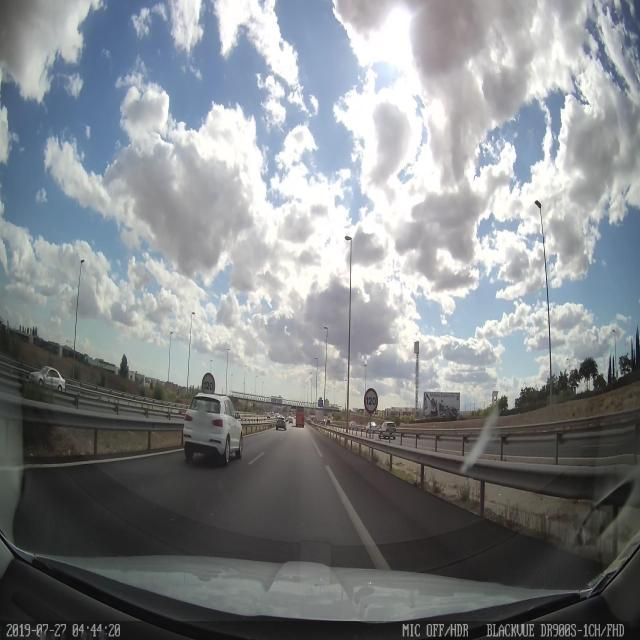car: (182, 390, 243, 464), (29, 366, 66, 392), (276, 416, 286, 430)
